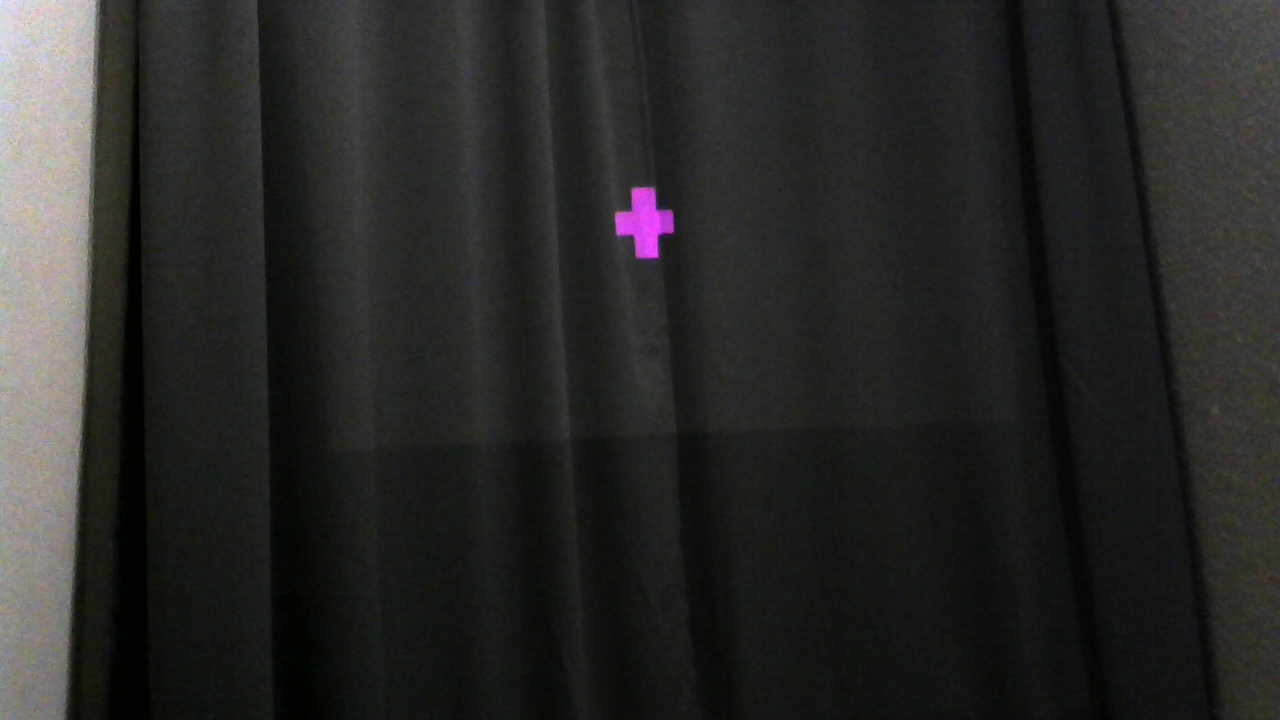calibration_symbol: (614, 186, 674, 259)
